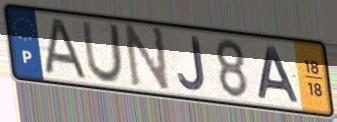8: (212, 36, 251, 100)
A: (40, 17, 90, 82), (256, 45, 303, 105)
J: (176, 35, 208, 93)
N: (123, 22, 172, 96)
U: (80, 19, 125, 86)
